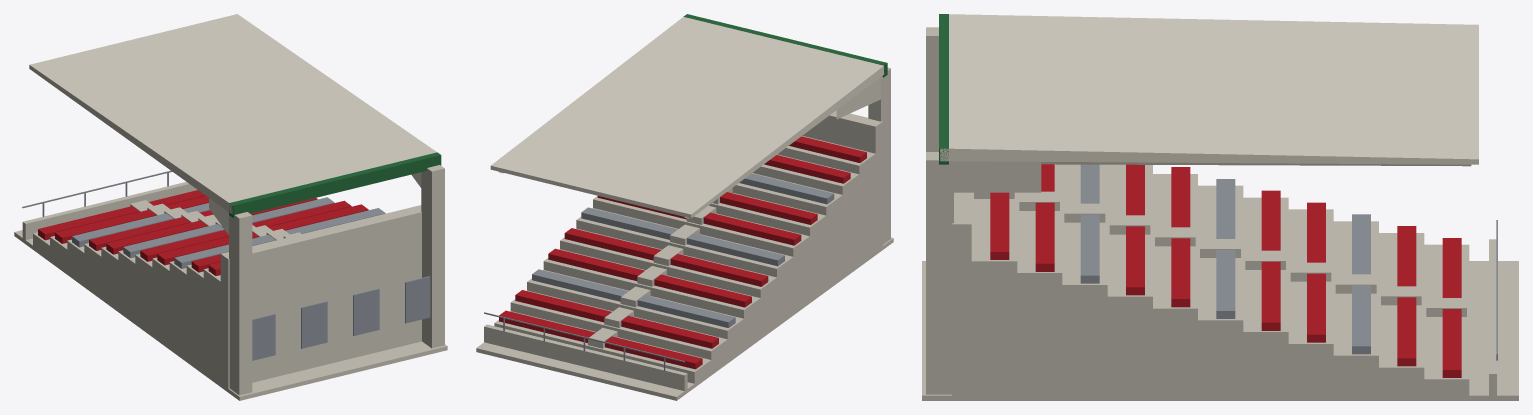
The model's file is grada-monza.glb.
3 renders of one model, left to right at view 1: azimuth 30°, elevation 25°; view 2: azimuth 150°, elevation 25°; view 3: azimuth 270°, elevation 25°, orthographic. The views are drawn at different scales.
Visible parts, largest first — view 1: grada-monza; view 2: grada-monza; view 3: grada-monza.
Boxes of the visible parts, x1,y1,x2,y2 form: grada-monza: (14,14,447,400); grada-monza: (476,14,893,400); grada-monza: (922,14,1518,400).
Bounding box in the file's own units: 16 × 14 × 30.
